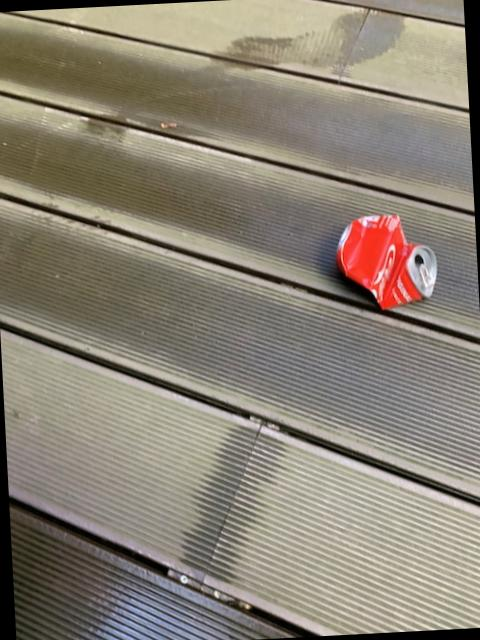metal: (335, 214, 435, 308)
